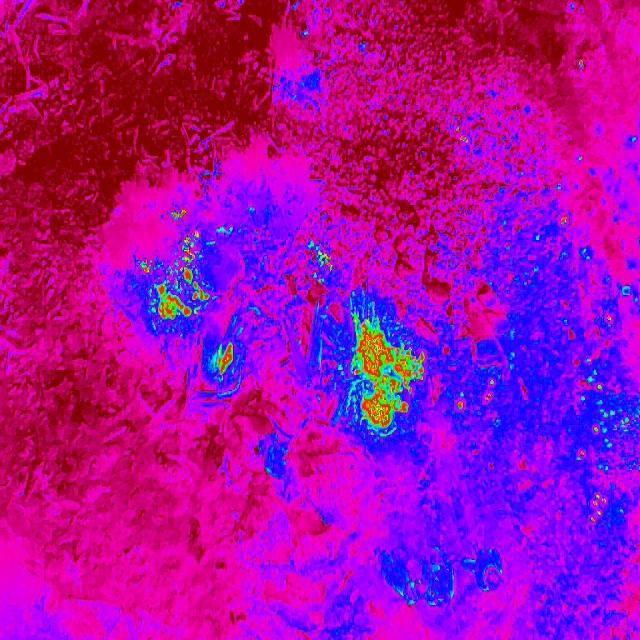fire: (571, 314, 640, 528), (346, 318, 424, 431), (138, 225, 210, 323), (451, 374, 498, 415), (214, 336, 238, 376), (310, 248, 336, 274), (554, 212, 571, 232), (168, 204, 188, 220), (576, 55, 588, 71)
